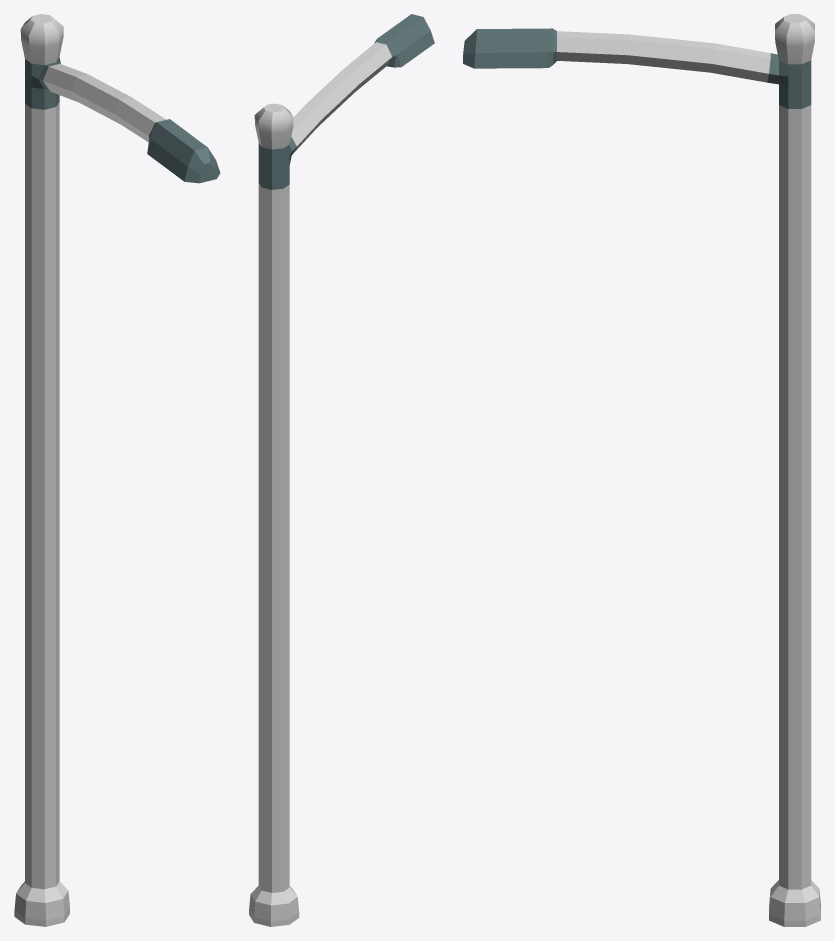
Rendered from Streetlight.fbx.
3 views of the same model, side by side, from view 1: azimuth 30°, elevation 25°; view 2: azimuth 150°, elevation 25°; view 3: azimuth 270°, elevation 25° (orthographic). The views are drawn at different scales.
Parts seen in each view (by area): view 1: Streetlight; view 2: Streetlight; view 3: Streetlight.
Boxes of the visible parts, bbox=[...] form: Streetlight: bbox=[14, 14, 220, 926]; Streetlight: bbox=[249, 14, 434, 926]; Streetlight: bbox=[463, 14, 820, 926].
Bounding box in the file's own units: 5.35 × 102 × 36.9.
